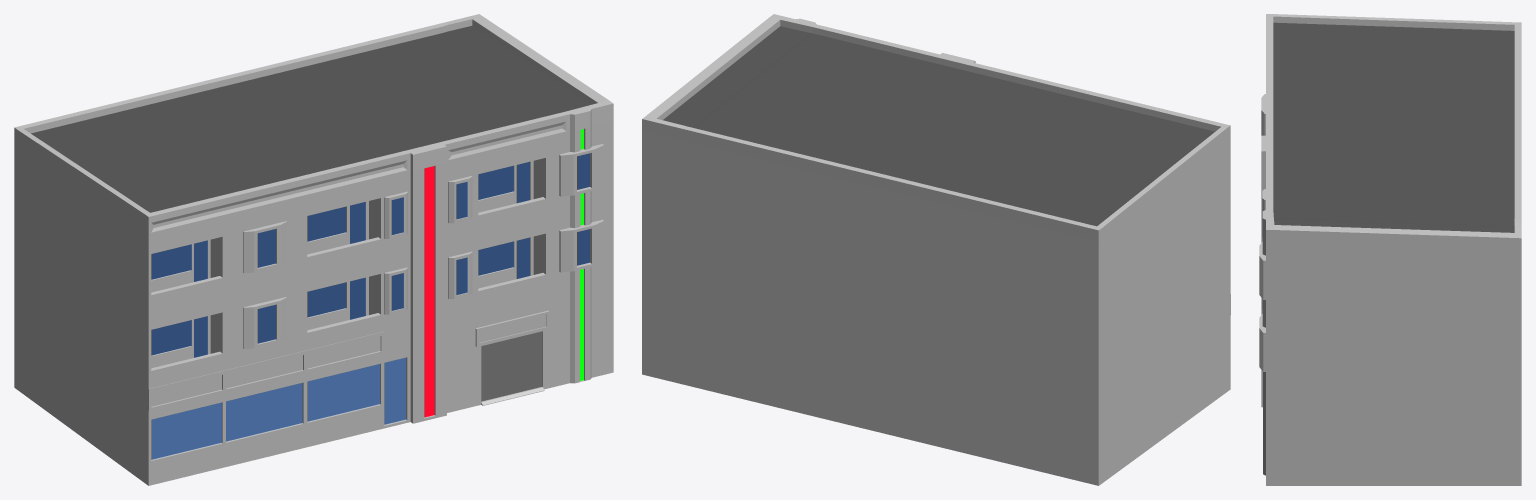
The model's file is TestCP2.fbx.
The picture shows the model from 3 angles, left to right: view 1: azimuth 30°, elevation 25°; view 2: azimuth 150°, elevation 25°; view 3: azimuth 270°, elevation 25°; orthographic projection. The views are drawn at different scales.
Visible parts, largest first — view 1: Cube; view 2: Cube; view 3: Cube.
Boxes of the visible parts, x1,y1,x2,y2 form: Cube: (14,14,613,485); Cube: (642,14,1230,485); Cube: (1259,14,1521,485).
Size of the model in its own units: 2000 by 1105 by 1026.
